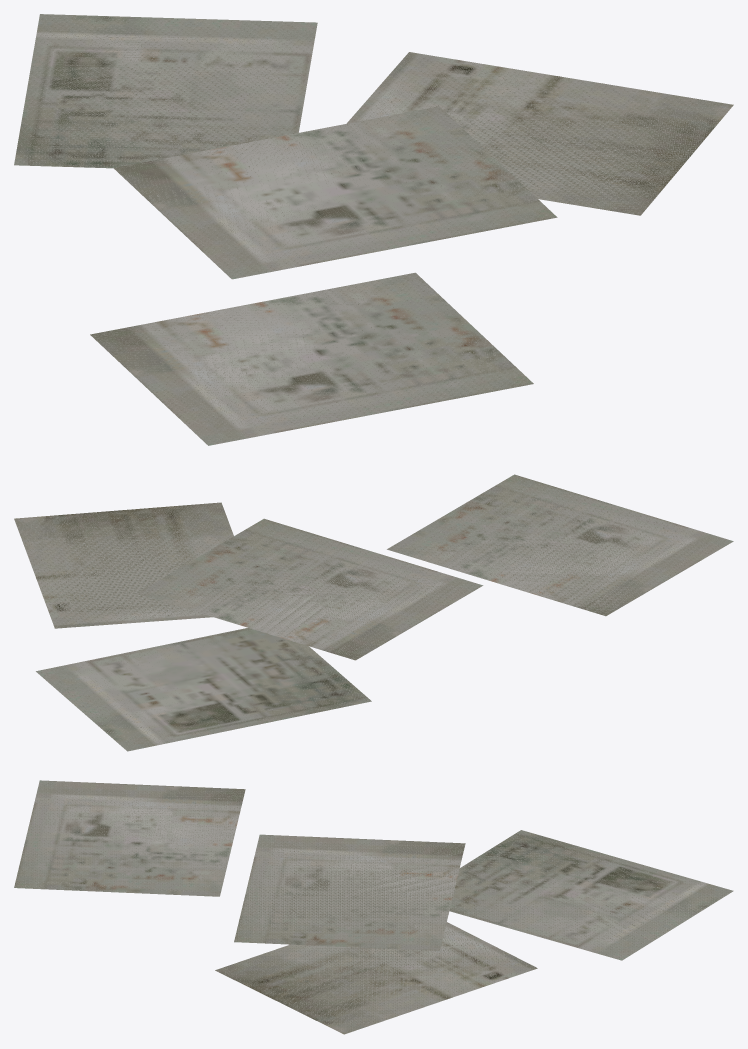
Rendered from Papers.fbx.
3 renders of one model, top to bottom at view 1: azimuth 30°, elevation 25°; view 2: azimuth 150°, elevation 25°; view 3: azimuth 270°, elevation 25°, orthographic. The views are drawn at different scales.
Parts seen in each view (by area): view 1: Model; view 2: Model; view 3: Model.
Boxes of the visible parts, x1=… form: Model: x1=14, y1=14, x2=733, y2=445; Model: x1=14, y1=474, x2=733, y2=751; Model: x1=14, y1=780, x2=733, y2=1034.
Bounding box in the file's own units: 37.38 × 0.5238 × 44.08.
